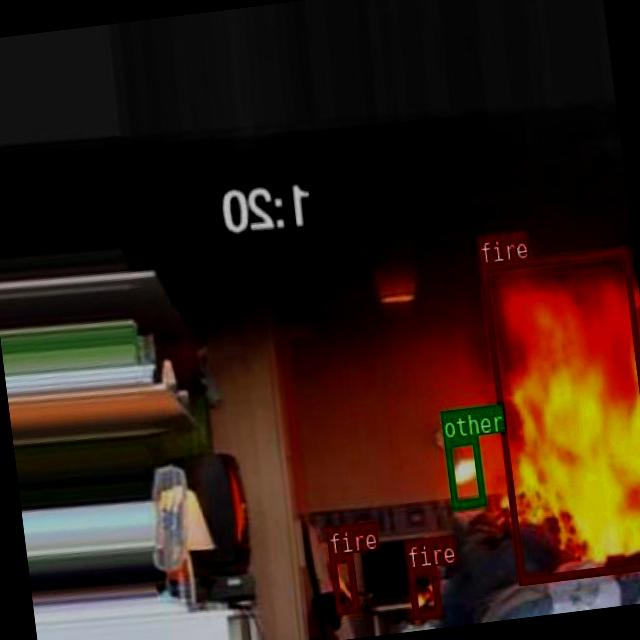fire: (479, 245, 640, 583), (327, 552, 358, 612), (406, 565, 441, 617)
